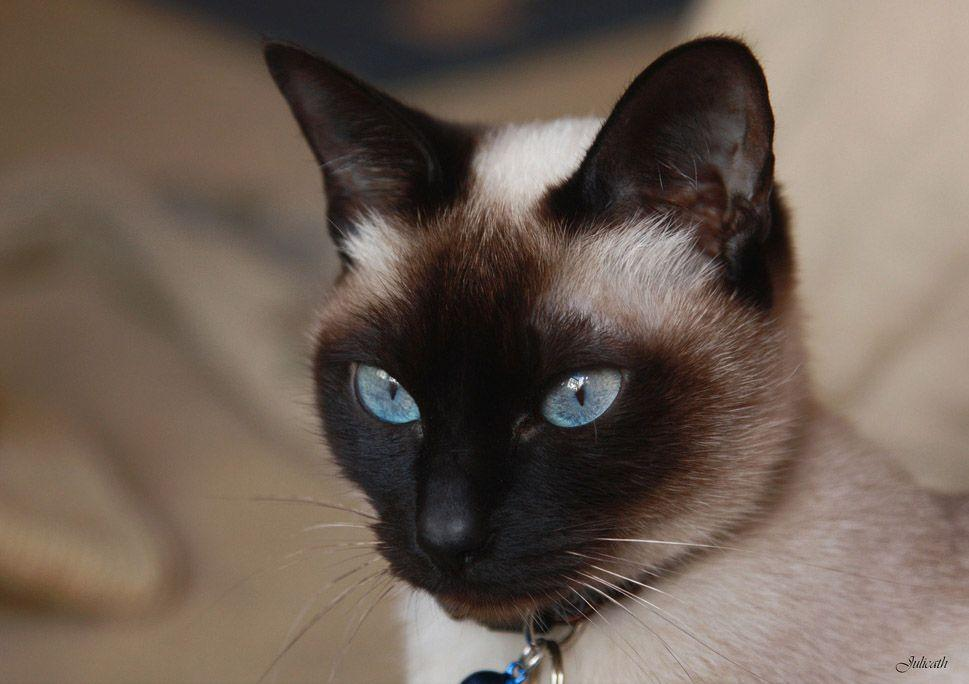siamese: (246, 32, 813, 632)
